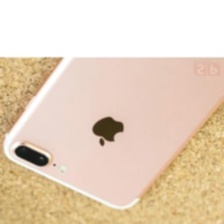phone: (1, 0, 223, 212)
